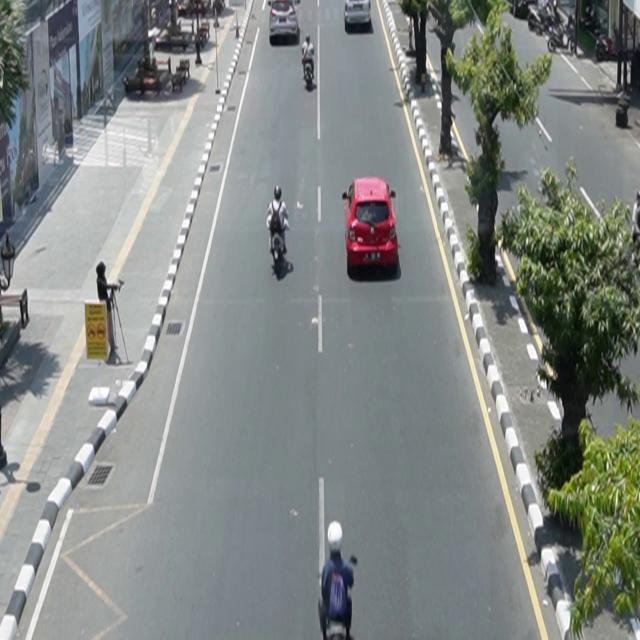car: (343, 177, 400, 275), (345, 1, 372, 29)
